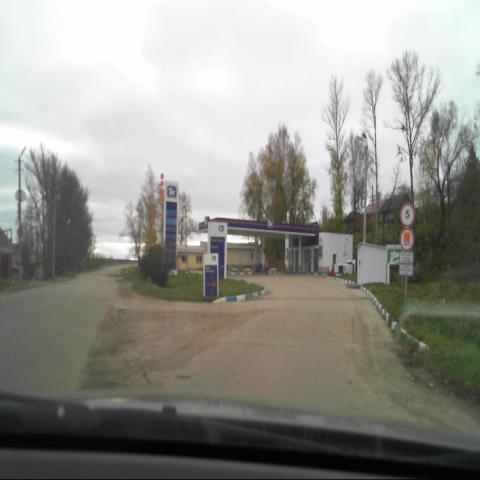3_32: (401, 228, 414, 251)
